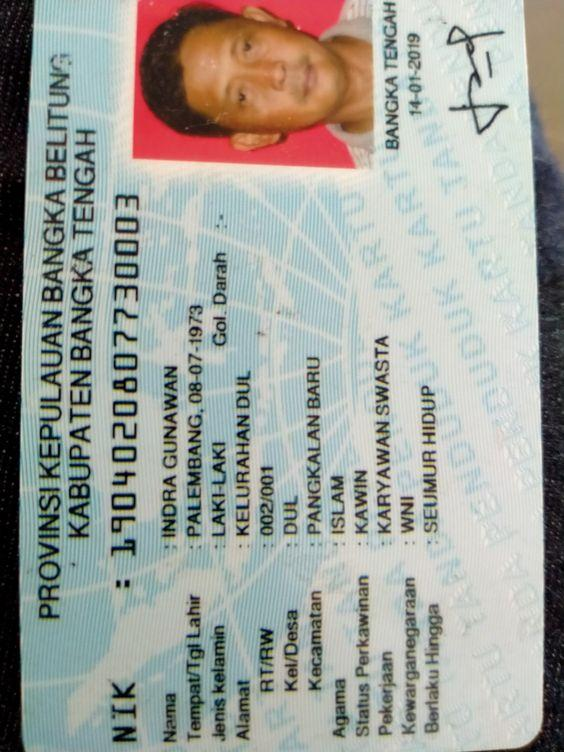ID-card: (25, 3, 538, 734)
